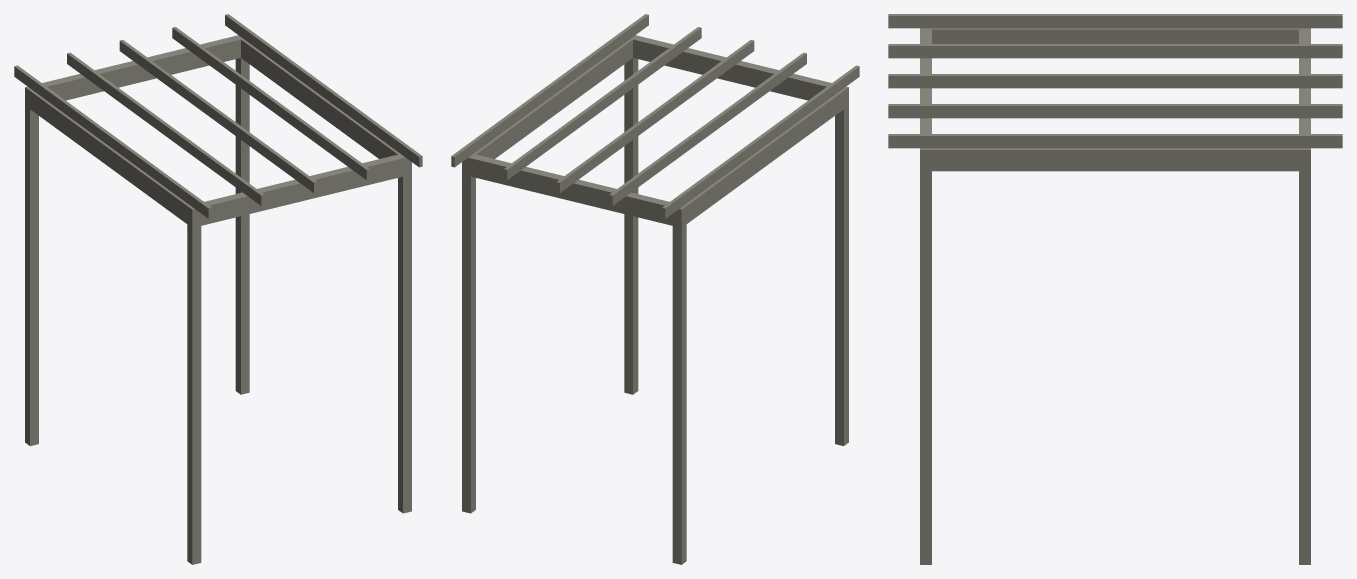
File: pp-dokuritu_1k-8s_stain.fbx
The picture shows the model from 3 angles, left to right: view 1: azimuth 30°, elevation 25°; view 2: azimuth 150°, elevation 25°; view 3: azimuth 270°, elevation 25°; orthographic projection. The views are drawn at different scales.
Visible parts, largest first — view 1: pp-dokuritu_1k-8s_stain; view 2: pp-dokuritu_1k-8s_stain; view 3: pp-dokuritu_1k-8s_stain.
Boxes of the visible parts, x1,y1,x2,y2 form: pp-dokuritu_1k-8s_stain: (14,14,422,564); pp-dokuritu_1k-8s_stain: (451,14,859,564); pp-dokuritu_1k-8s_stain: (888,14,1342,564).
Size of the model in its own units: 187 by 298 by 287.
1 material, 1 textured.
